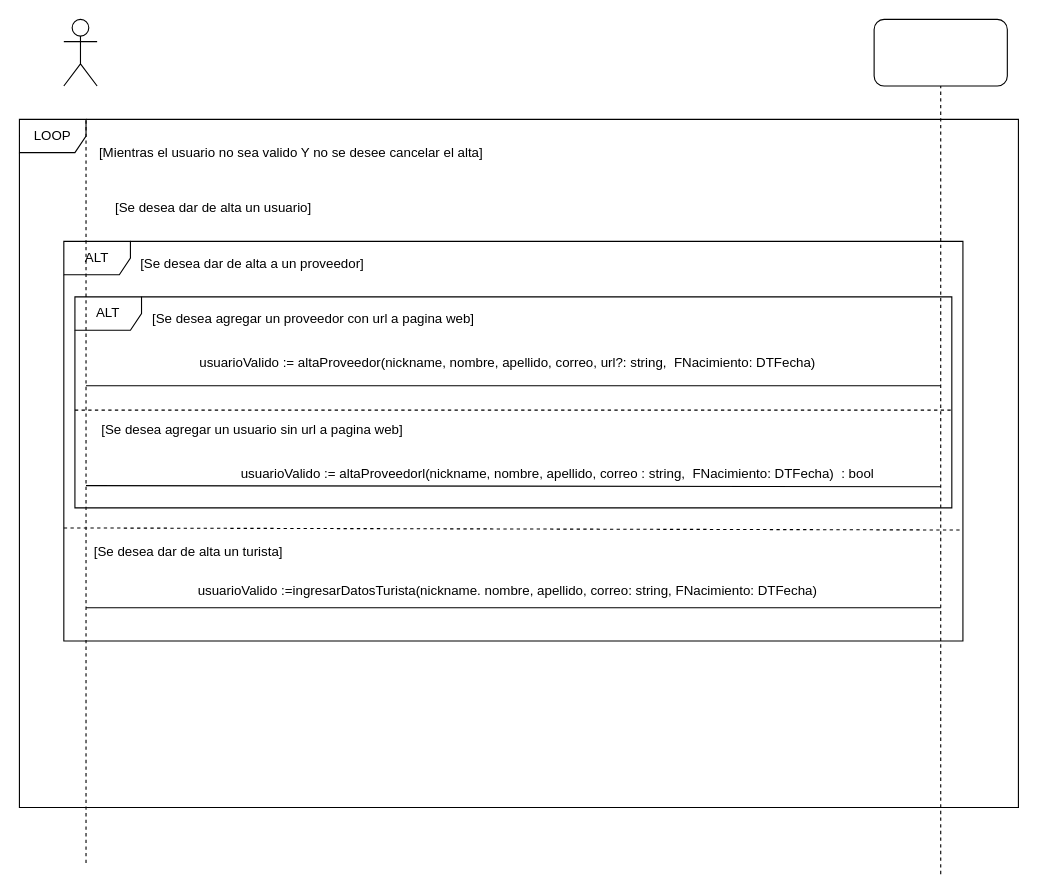
Some shapes in this 1038 by 895 pixel diagram are drawn without their labels. Here are the shapes that lost their labels. From the top down, the centre of each, then its label:
At point 80,52: "Administrador".
At point 940,52: ":Sistema".
